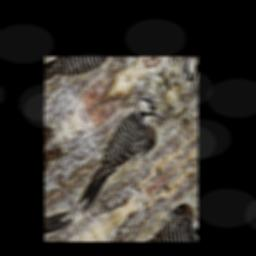Woodpecker: (59, 89, 174, 215)
